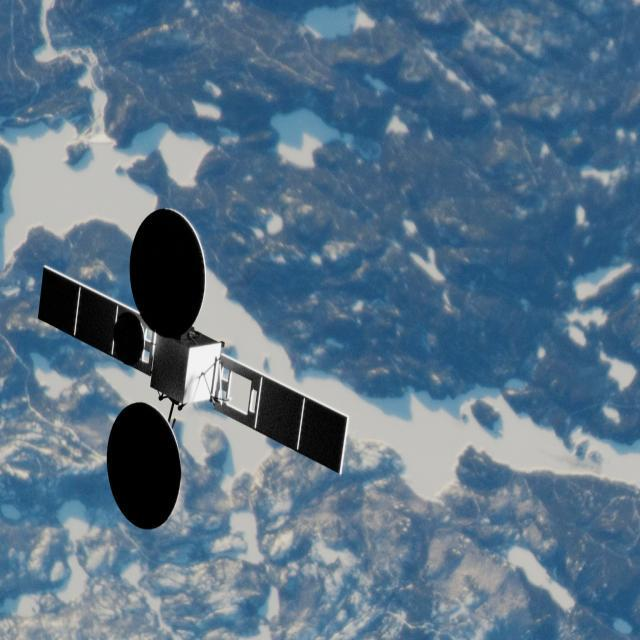satellite: (19, 203, 419, 536)
